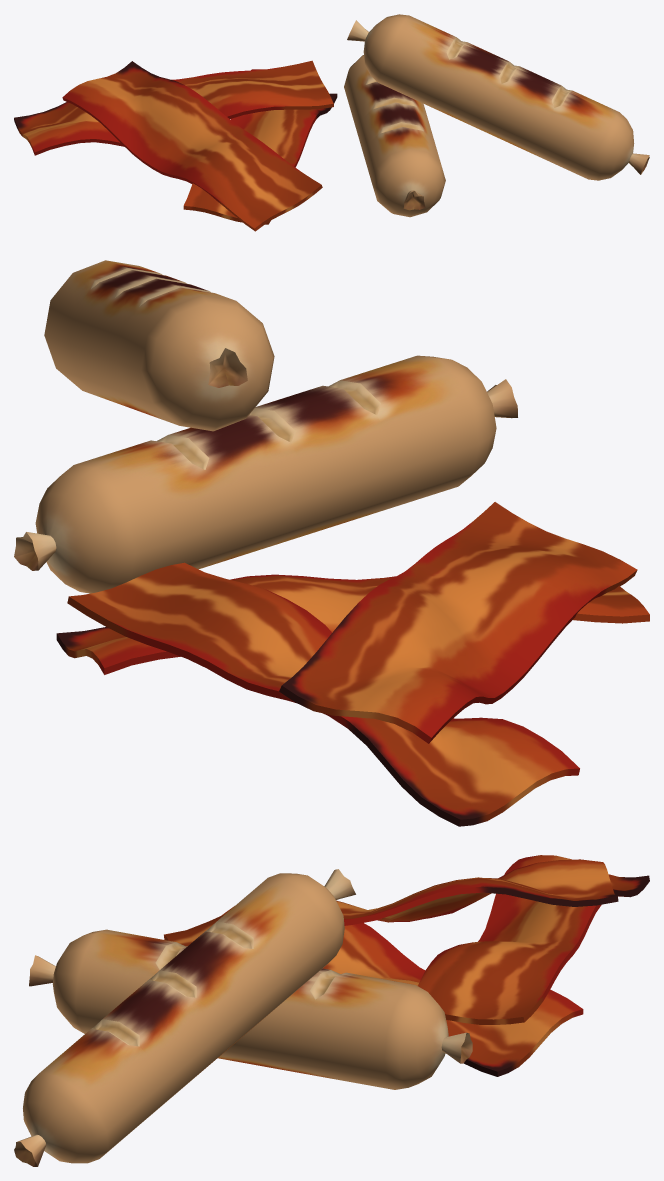
Rendered from MeatBreakfast.fbx.
The picture shows the model from 3 angles, top to bottom: view 1: azimuth 30°, elevation 25°; view 2: azimuth 150°, elevation 25°; view 3: azimuth 270°, elevation 25°; orthographic projection. The views are drawn at different scales.
Visible parts, largest first — view 1: Breakfast; view 2: Breakfast; view 3: Breakfast.
Boxes of the visible parts, x1=… form: Breakfast: x1=14, y1=14, x2=649, y2=231; Breakfast: x1=14, y1=260, x2=649, y2=826; Breakfast: x1=14, y1=855, x2=649, y2=1166.
Bounding box in the file's own units: 1751 × 510 × 1503.
